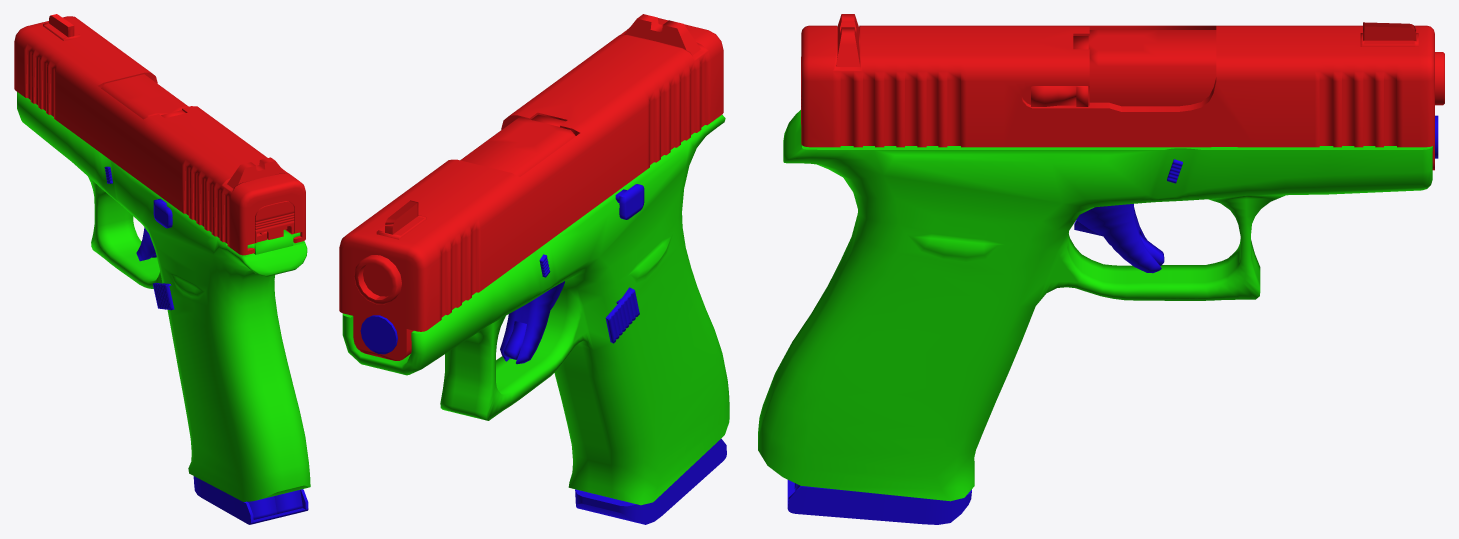
3 renders of one model, left to right at view 1: azimuth 30°, elevation 25°; view 2: azimuth 150°, elevation 25°; view 3: azimuth 270°, elevation 25°, orthographic. The views are drawn at different scales.
Parts seen in each view (by area): view 1: Body, Slide, Magazine, Parts; view 2: Body, Slide, Parts, Magazine; view 3: Body, Slide, Magazine, Parts.
Part boxes in pixels (x1,y1,x2,y2): Body: (17, 92, 310, 501); Slide: (14, 14, 305, 255); Magazine: (193, 476, 308, 524); Parts: (104, 166, 174, 310); Body: (342, 114, 729, 505); Slide: (339, 14, 723, 360); Parts: (360, 184, 644, 364); Magazine: (575, 438, 726, 524); Body: (758, 110, 1432, 501); Slide: (801, 14, 1444, 170); Magazine: (787, 480, 971, 524); Parts: (1074, 115, 1438, 273).
Size of the model in its own units: 0.00257 by 0.0148 by 0.0115.
